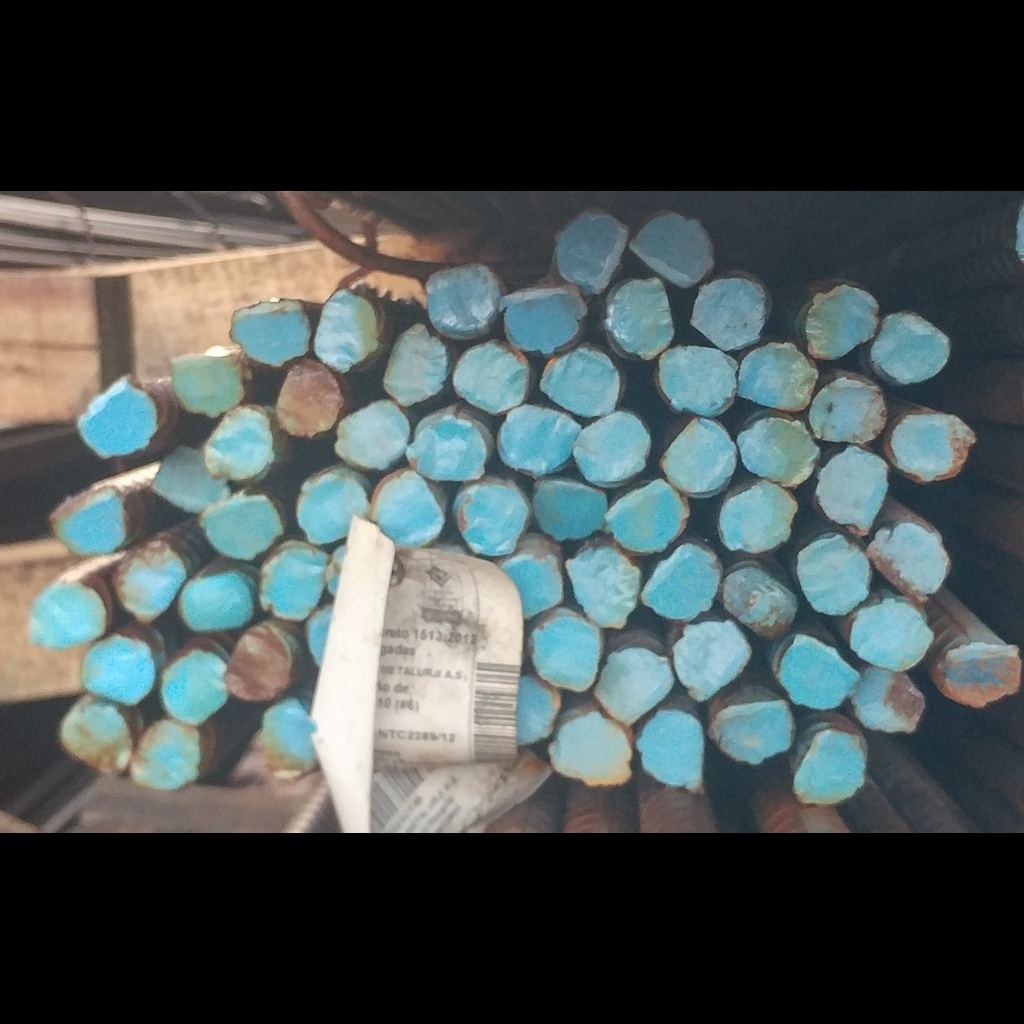dipstick: (63, 374, 158, 460), (797, 265, 879, 361), (628, 203, 715, 290), (734, 405, 820, 488), (538, 337, 624, 419), (887, 412, 977, 490), (866, 304, 952, 385), (657, 415, 740, 498), (669, 621, 754, 702), (500, 282, 589, 359), (771, 635, 861, 711), (815, 445, 890, 536), (716, 558, 799, 639), (549, 210, 628, 294), (220, 621, 299, 705), (868, 525, 952, 604), (227, 290, 313, 367), (110, 539, 187, 625), (567, 541, 641, 630), (796, 531, 871, 618), (602, 272, 675, 361), (451, 337, 534, 415), (652, 343, 738, 418), (29, 569, 109, 649), (573, 407, 654, 486), (294, 463, 372, 545), (686, 273, 770, 349), (56, 698, 132, 781), (715, 482, 800, 556), (548, 714, 633, 788), (495, 404, 581, 477), (452, 479, 532, 557), (605, 480, 689, 554), (710, 698, 796, 770), (644, 544, 722, 623), (424, 255, 499, 337), (408, 408, 491, 482), (596, 649, 675, 726), (47, 482, 128, 557), (853, 598, 936, 671), (528, 611, 601, 694), (379, 322, 450, 407), (150, 445, 232, 517), (791, 729, 867, 806), (314, 286, 382, 372), (740, 339, 818, 412), (257, 541, 328, 621), (806, 376, 887, 446), (203, 408, 278, 483), (167, 346, 244, 419), (200, 493, 286, 558), (941, 641, 1022, 710), (334, 399, 410, 472), (158, 646, 228, 725), (81, 633, 157, 705), (277, 357, 343, 439), (252, 704, 318, 782), (852, 666, 926, 735), (532, 478, 608, 543), (132, 717, 197, 788), (177, 570, 251, 632), (493, 556, 565, 619), (514, 676, 563, 743)
